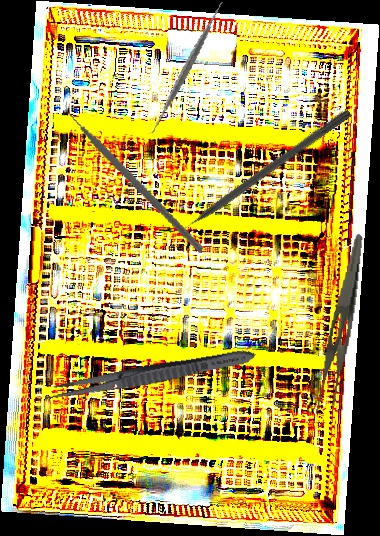Chopper: (38, 92, 232, 254)
Dressing Forceps: (42, 344, 259, 406), (312, 230, 365, 419)
Pusher: (164, 106, 353, 244)
Spatula Surgical: (120, 0, 254, 135)
